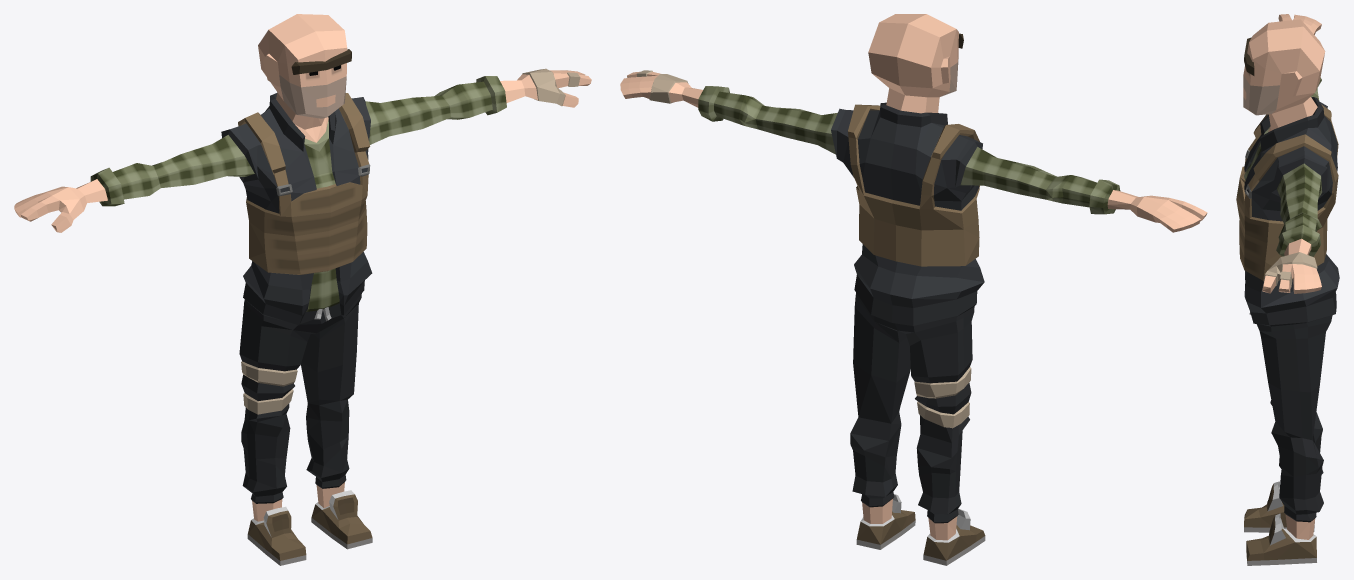
The model's file is SM_Chr_Insurgent_Male_02.fbx.
The picture shows the model from 3 angles, left to right: view 1: azimuth 30°, elevation 25°; view 2: azimuth 150°, elevation 25°; view 3: azimuth 270°, elevation 25°; orthographic projection. The views are drawn at different scales.
Visible parts, largest first — view 1: SM_Chr_Insurgent_Male_02; view 2: SM_Chr_Insurgent_Male_02; view 3: SM_Chr_Insurgent_Male_02.
Part boxes in pixels (x1,y1,x2,y2): SM_Chr_Insurgent_Male_02: (14,14,591,565); SM_Chr_Insurgent_Male_02: (620,14,1207,565); SM_Chr_Insurgent_Male_02: (1236,14,1339,565).
Size of the model in its own units: 205 by 179 by 32.48.
